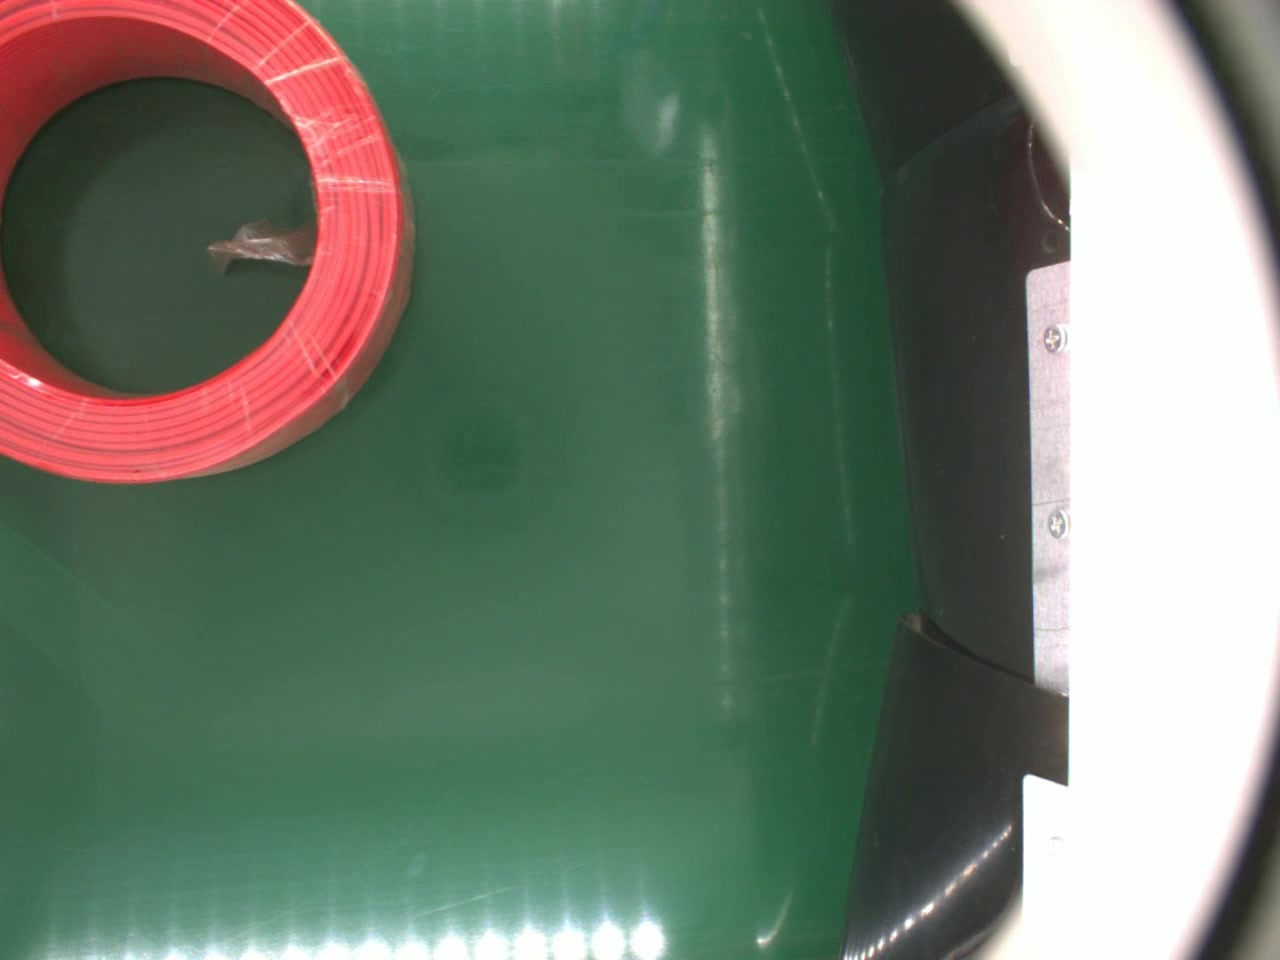red: (0, 0, 422, 491)
